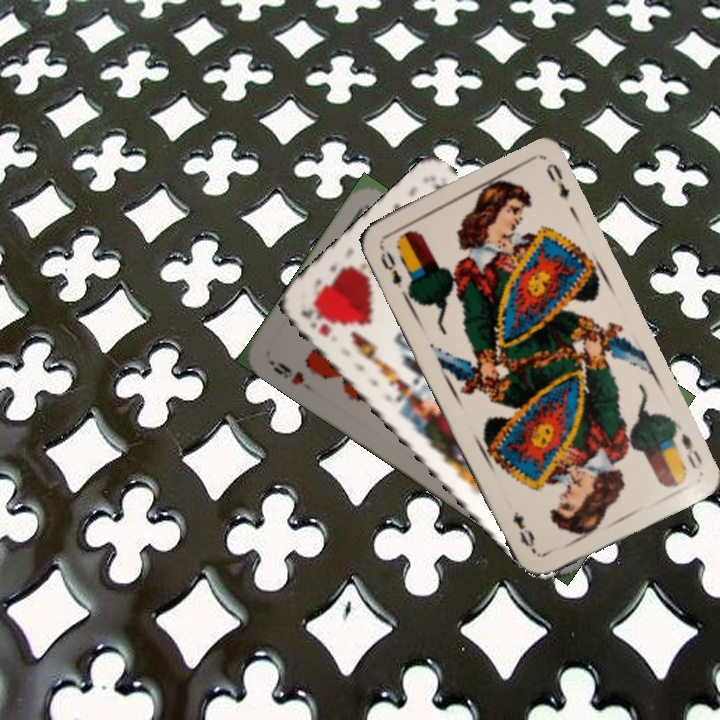EO: (376, 241, 405, 291), (677, 430, 706, 471)
H9: (265, 356, 308, 388)
HK: (297, 299, 337, 340)
